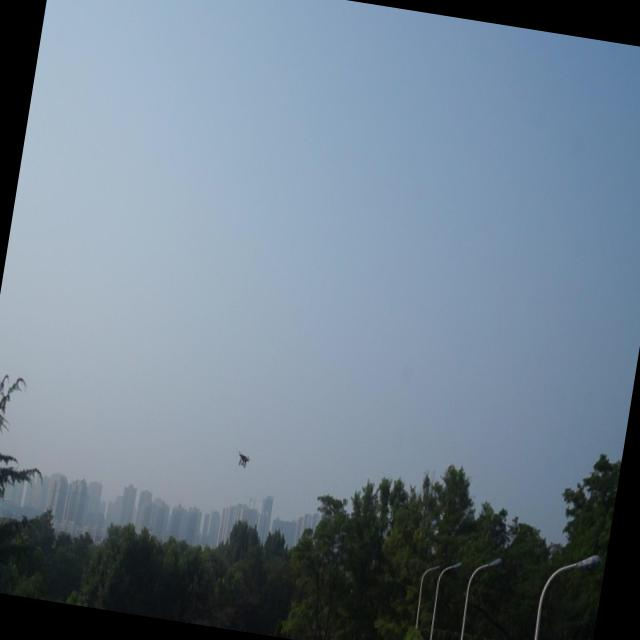drone: (234, 446, 252, 474)
